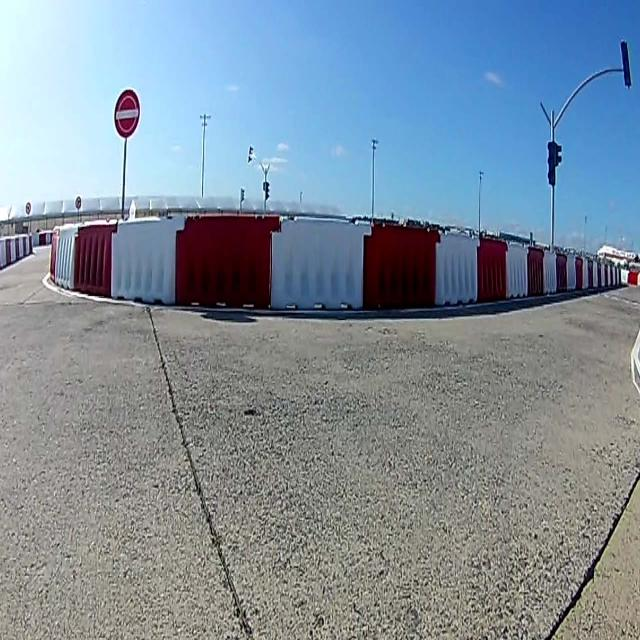girisyok: (114, 91, 140, 136)
